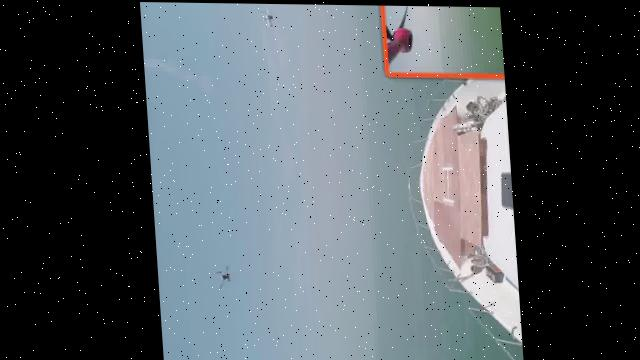drone: (197, 253, 240, 308), (253, 3, 280, 35)
